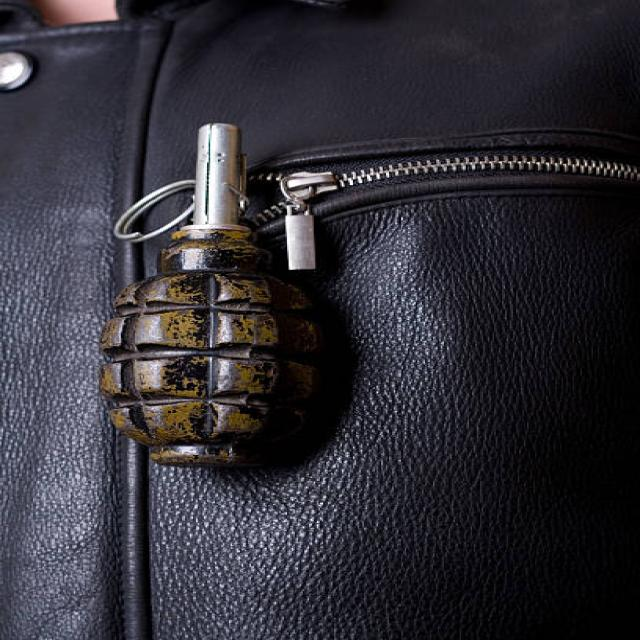grenade: (92, 120, 332, 477)
